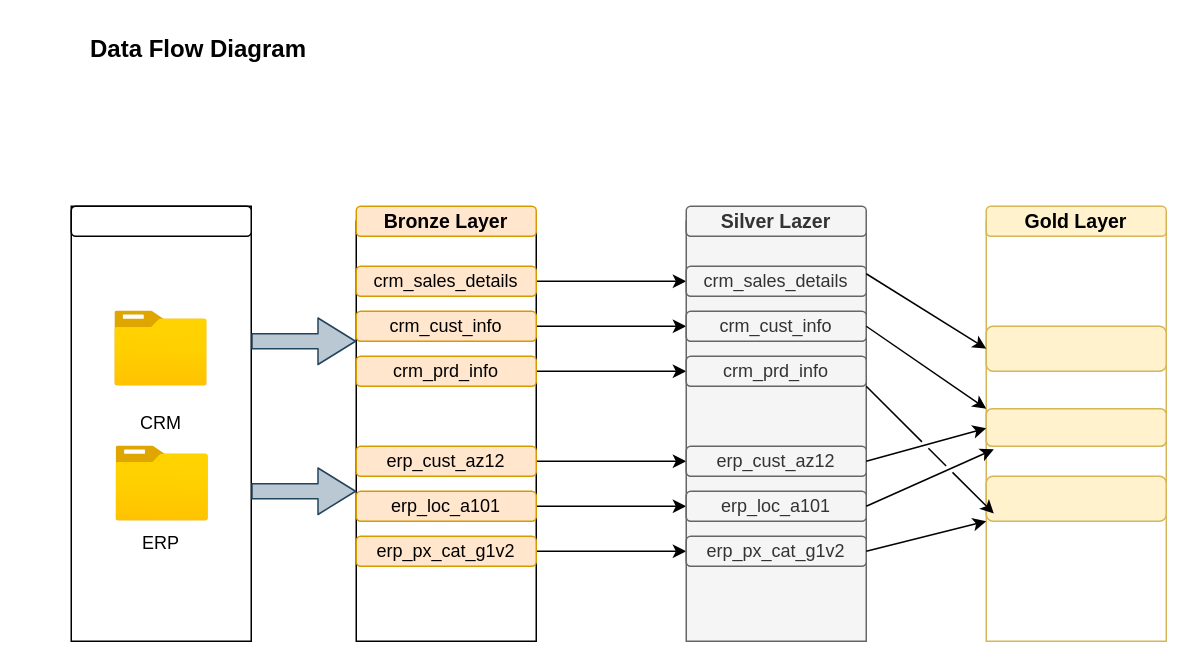
Image size: 1193x668. Some labels were removed from this diagram. The shapes that lost their labels are listed below. From the top down, each one's centre as x and y in pixels, then its label:
At point (160, 220): "Source".
At point (1075, 348): "fact_sales".
At point (1075, 426): "dim_customers".
At point (1075, 498): "dim_products".
